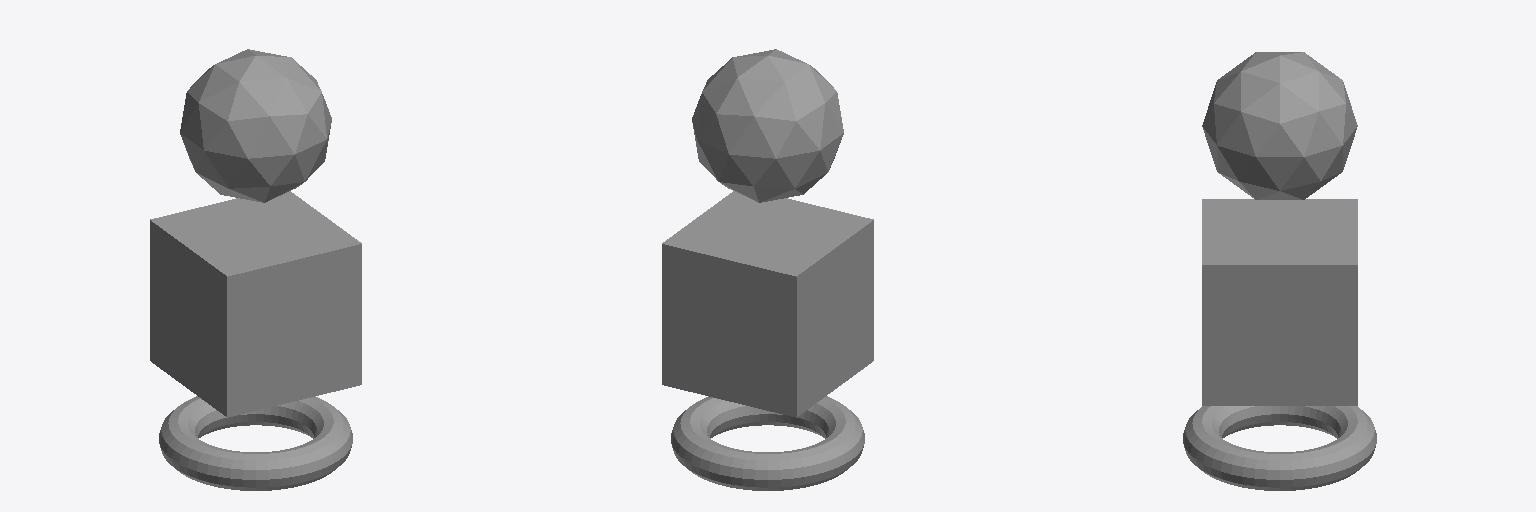
File: multi.obj
3 views of the same model, side by side, from view 1: azimuth 30°, elevation 25°; view 2: azimuth 150°, elevation 25°; view 3: azimuth 270°, elevation 25° (orthographic).
Visible parts, largest first — view 1: TheSpaceship_Cube, Planet_Icosphere, Rogue_Torus; view 2: TheSpaceship_Cube, Planet_Icosphere, Rogue_Torus; view 3: TheSpaceship_Cube, Planet_Icosphere, Rogue_Torus.
Part boxes in pixels (bbox=[...]): TheSpaceship_Cube: bbox=[150, 191, 361, 417]; Planet_Icosphere: bbox=[180, 49, 331, 202]; Rogue_Torus: bbox=[159, 396, 352, 490]; TheSpaceship_Cube: bbox=[662, 191, 873, 417]; Planet_Icosphere: bbox=[692, 49, 843, 202]; Rogue_Torus: bbox=[671, 396, 864, 490]; TheSpaceship_Cube: bbox=[1202, 199, 1357, 405]; Planet_Icosphere: bbox=[1202, 52, 1357, 199]; Rogue_Torus: bbox=[1183, 406, 1376, 490].
Size of the model in its own units: 2.5 by 5.68 by 2.5.